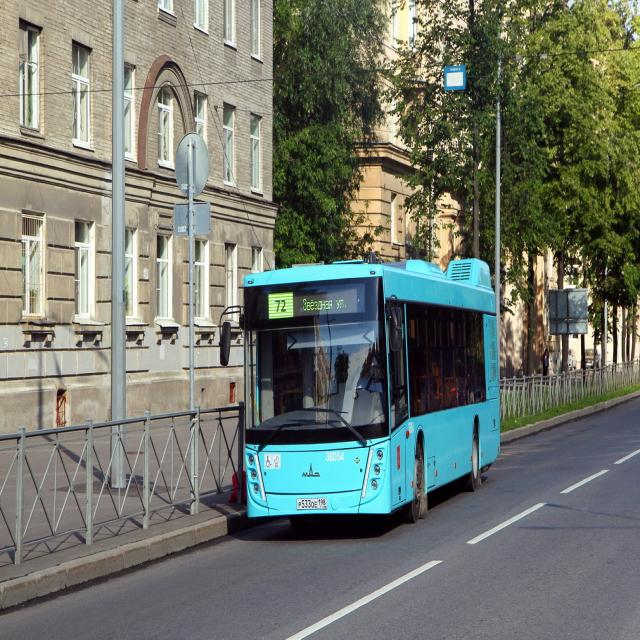number-of-bus: (274, 297, 290, 317)
